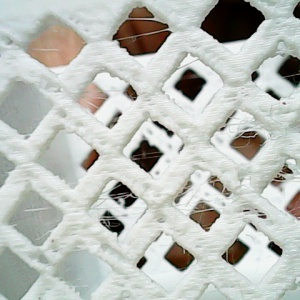3dpstringing: (177, 180, 232, 220), (93, 186, 138, 233), (19, 205, 66, 246), (116, 14, 173, 46), (215, 116, 263, 152), (75, 87, 125, 110), (251, 72, 300, 91), (268, 107, 289, 145), (273, 158, 299, 185), (129, 150, 166, 168), (25, 44, 64, 59), (175, 55, 201, 76), (179, 245, 194, 275), (63, 280, 94, 294), (238, 209, 269, 221), (218, 248, 233, 272), (20, 131, 35, 144)
3dpunderextrusion: (138, 183, 181, 235), (57, 111, 94, 135)
